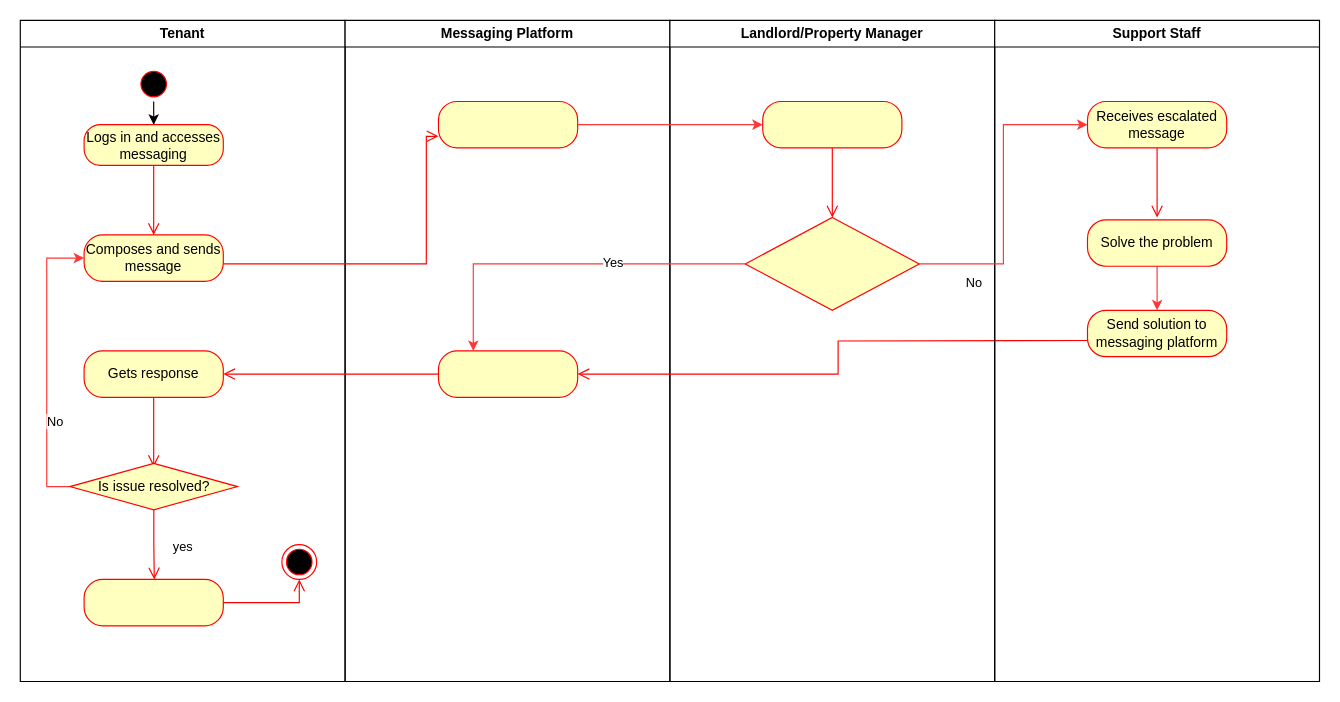
The diagram is 1340 pixels wide and 702 high, and some of its shapes have lost their labels. The centre of each missing label's shape, as x and y in pixels:
Can this be solved directly?: (x=831, y=263)
Close conversation: (x=153, y=602)
Forward the response: (x=507, y=373)
Receives a message and reads it: (x=832, y=124)
Receives message: (x=507, y=124)
